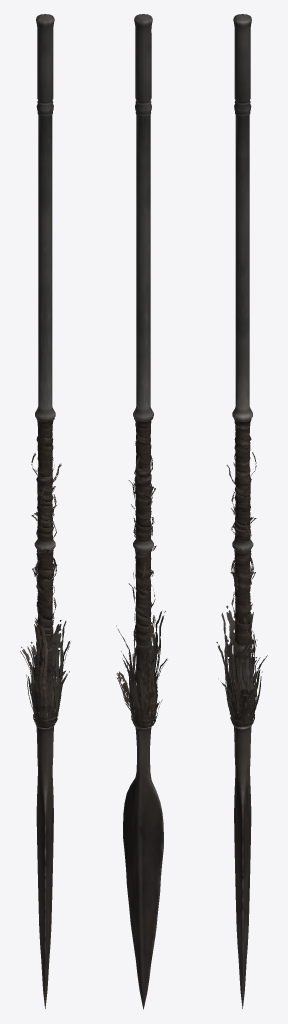
File: weapon-wp_a_0941.glb
The picture shows the model from 3 angles, left to right: view 1: azimuth 90°, elevation 25°; view 2: azimuth 150°, elevation 25°; view 3: azimuth 270°, elevation 25°; orthographic projection.
Parts seen in each view (by area): view 1: wp_a_0941_mesh; view 2: wp_a_0941_mesh; view 3: wp_a_0941_mesh.
Part boxes in pixels (x1,y1,x2,y2): wp_a_0941_mesh: [20, 14, 70, 1008]; wp_a_0941_mesh: [116, 14, 167, 1009]; wp_a_0941_mesh: [216, 14, 267, 1008].
Size of the model in its own units: 0.1537 by 2.56 by 0.1591.
Materials: 3 (3 with a texture image).
